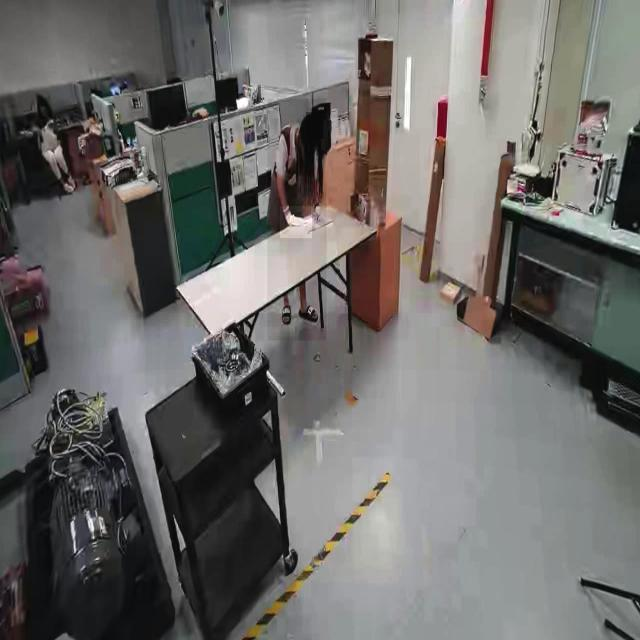hand_glove: (280, 206, 312, 239)
head_nohelmet: (306, 112, 324, 140)
person: (267, 99, 327, 341)
